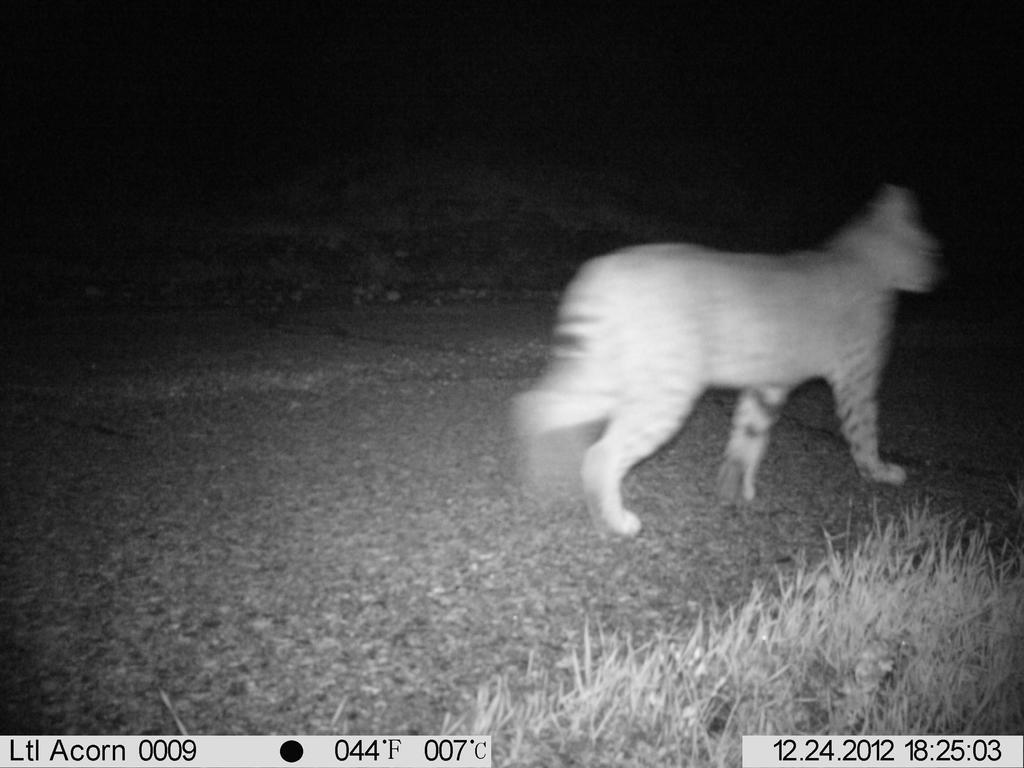bobcat: (506, 180, 951, 539)
